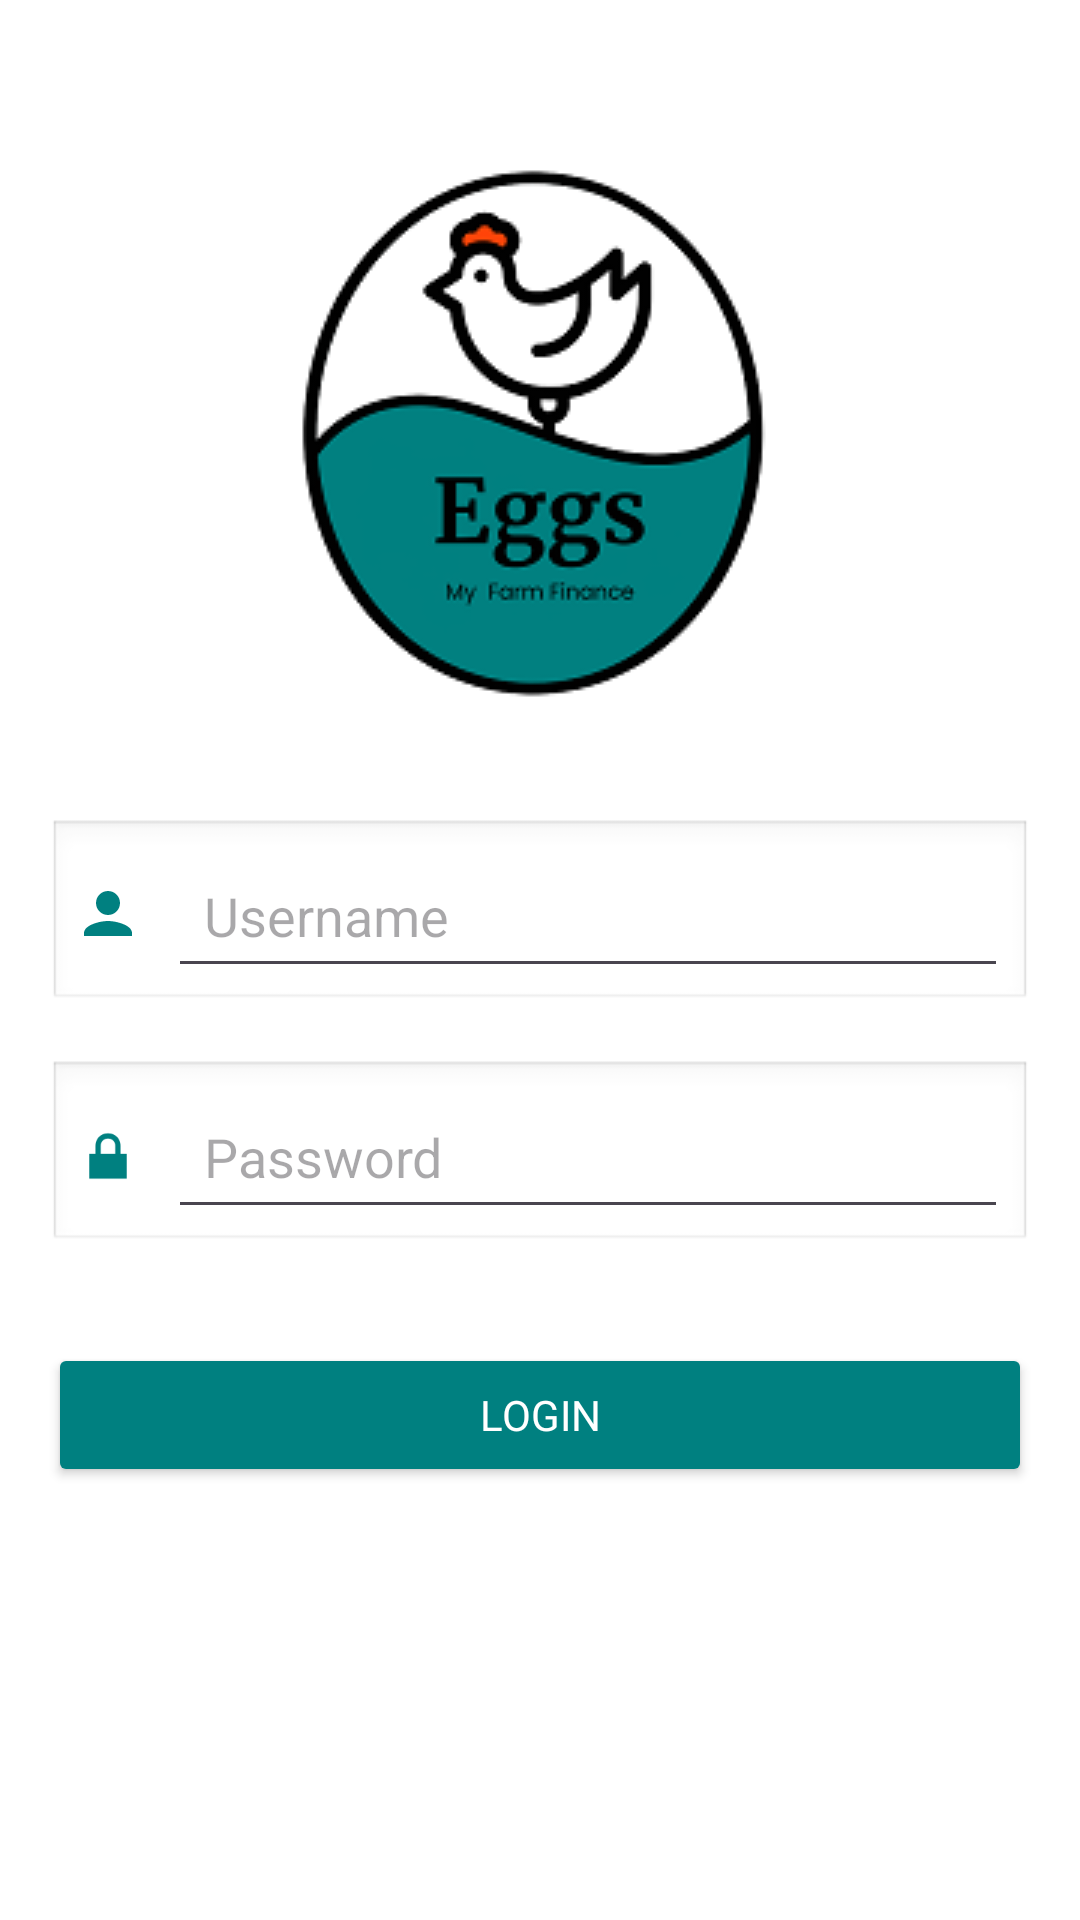

Named icons in this screenshot (1080 × 1920) and their bounding boxes, [x1=x1, y1=y1, x2=x2, y2=y2]:
lock: [x1=89, y1=1133, x2=127, y2=1179]
